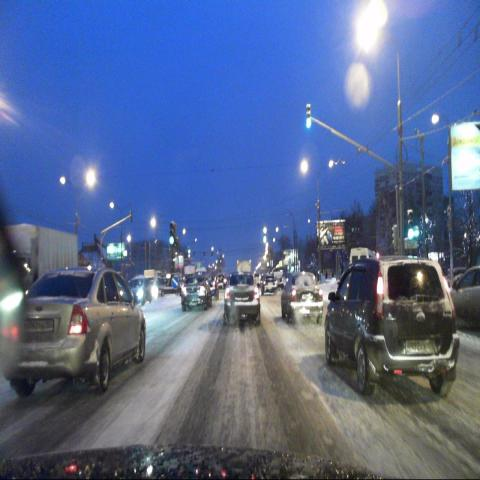4_2_1: (170, 275, 180, 291)
6_16: (404, 238, 418, 249)
